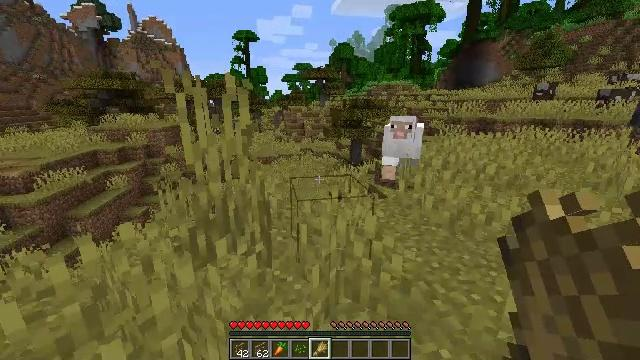cow: (596, 87, 639, 110), (606, 72, 640, 86), (533, 80, 558, 99)
sheep: (381, 117, 422, 179)
